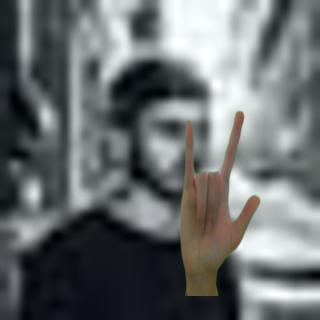ILY: (176, 109, 264, 279)
